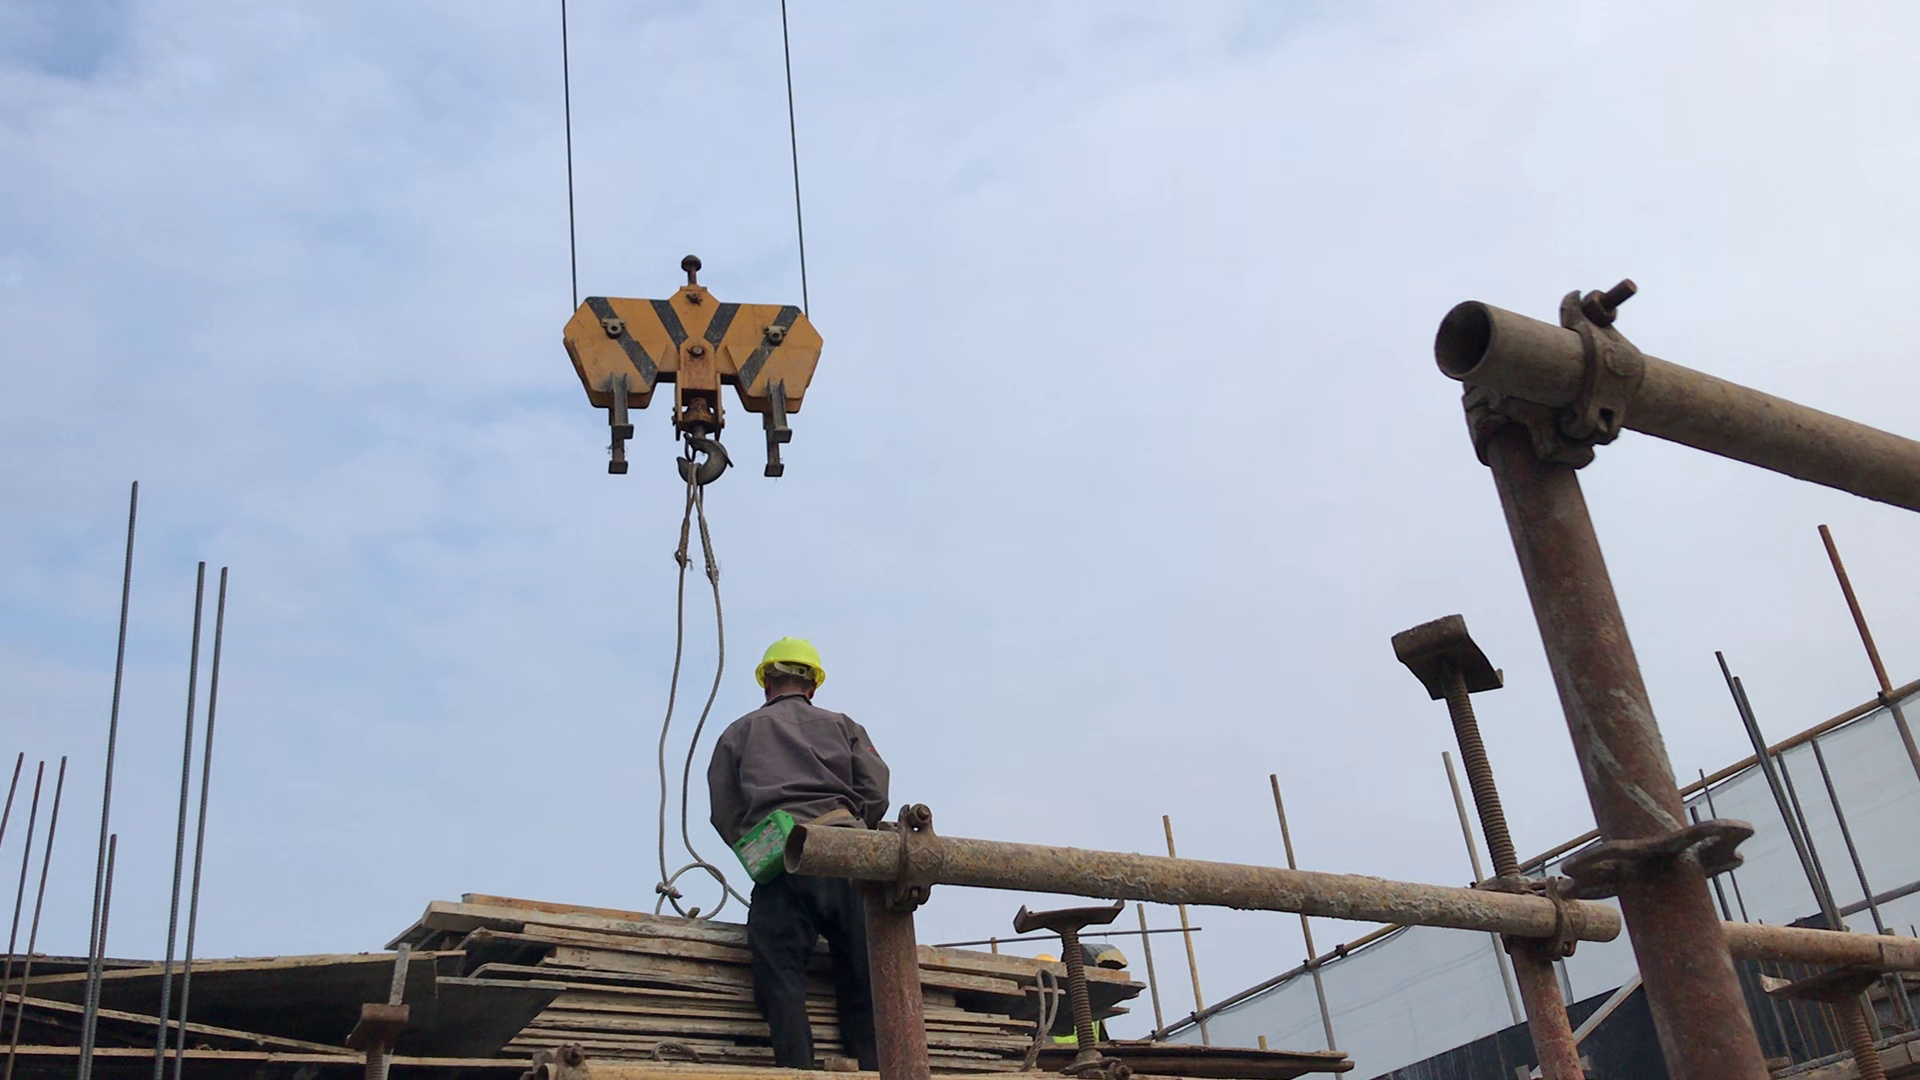board: (386, 889, 751, 1068)
helmet: (749, 631, 832, 686)
hook: (559, 249, 834, 498)
person: (707, 630, 893, 1071)
